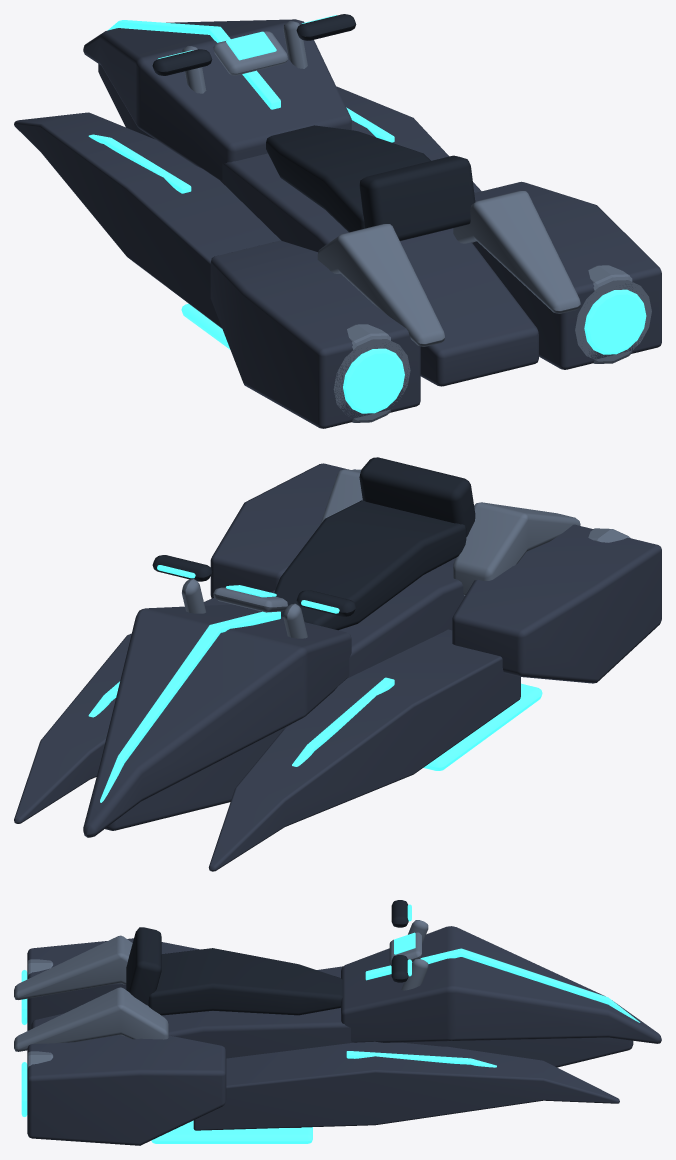
File: Alien_PlasmaBike.fbx
The picture shows the model from 3 angles, top to bottom: view 1: azimuth 30°, elevation 25°; view 2: azimuth 150°, elevation 25°; view 3: azimuth 270°, elevation 25°; orthographic projection. The views are drawn at different scales.
Visible parts, largest first — view 1: Alien_PlasmaBike; view 2: Alien_PlasmaBike; view 3: Alien_PlasmaBike.
Boxes of the visible parts, x1,y1,x2,y2 form: Alien_PlasmaBike: [14, 14, 661, 428]; Alien_PlasmaBike: [14, 457, 661, 871]; Alien_PlasmaBike: [14, 900, 661, 1145].
Bounding box in the file's own units: 168 × 92.5 × 339.
